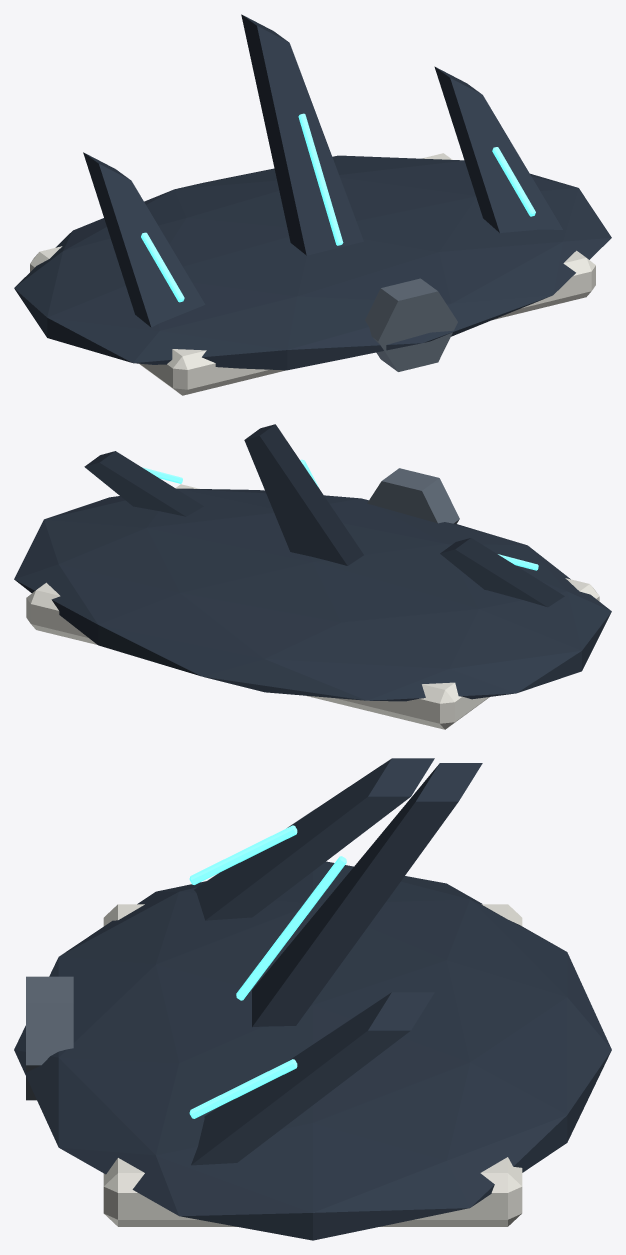
The model's file is web_sonar.glb.
3 renders of one model, top to bottom at view 1: azimuth 30°, elevation 25°; view 2: azimuth 150°, elevation 25°; view 3: azimuth 270°, elevation 25°, orthographic. The views are drawn at different scales.
Parts seen in each view (by area): view 1: web_sonar__base, web_sonar__sensor_02, web_sonar__sensor_01, web_sonar__sensor_03, web_sonar__emitter, web_sonar__ivory_base, web_sonar__sensor_emissive__02, web_sonar__sensor_emissive, web_sonar__sensor_emissive__03; view 2: web_sonar__base, web_sonar__sensor_02, web_sonar__ivory_base, web_sonar__sensor_01, web_sonar__sensor_03, web_sonar__emitter; view 3: web_sonar__base, web_sonar__sensor_02, web_sonar__sensor_03, web_sonar__sensor_01, web_sonar__ivory_base, web_sonar__emitter, web_sonar__sensor_emissive__02, web_sonar__sensor_emissive, web_sonar__sensor_emissive__03.
Part boxes in pixels (bbox=[...]): web_sonar__base: bbox=[14, 155, 611, 370]; web_sonar__sensor_02: bbox=[241, 14, 363, 255]; web_sonar__sensor_01: bbox=[83, 152, 205, 327]; web_sonar__sensor_03: bbox=[434, 66, 562, 233]; web_sonar__emitter: bbox=[365, 278, 457, 371]; web_sonar__ivory_base: bbox=[30, 153, 595, 395]; web_sonar__sensor_emissive__02: bbox=[298, 113, 343, 245]; web_sonar__sensor_emissive: bbox=[141, 232, 184, 302]; web_sonar__sensor_emissive__03: bbox=[492, 147, 535, 216]; web_sonar__base: bbox=[14, 488, 611, 701]; web_sonar__sensor_02: bbox=[244, 424, 363, 565]; web_sonar__ivory_base: bbox=[26, 484, 599, 729]; web_sonar__sensor_01: bbox=[440, 538, 564, 607]; web_sonar__sensor_03: bbox=[84, 451, 203, 516]; web_sonar__emitter: bbox=[367, 468, 459, 523]; web_sonar__base: bbox=[14, 861, 611, 1240]; web_sonar__sensor_02: bbox=[252, 763, 482, 1027]; web_sonar__sensor_03: bbox=[191, 992, 434, 1165]; web_sonar__sensor_01: bbox=[194, 758, 434, 920]; web_sonar__ivory_base: bbox=[103, 904, 522, 1226]; web_sonar__emitter: bbox=[26, 976, 73, 1100]; web_sonar__sensor_emissive__02: bbox=[236, 856, 346, 1000]; web_sonar__sensor_emissive: bbox=[189, 825, 297, 884]; web_sonar__sensor_emissive__03: bbox=[189, 1059, 297, 1118].
Size of the model in its own units: 3.5 by 1.5 by 2.5.
